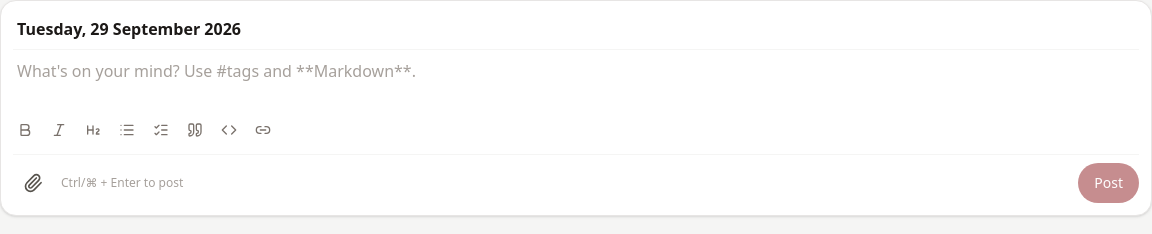
Composer › starts the title with today's date, which alone is not enough to post
The width and height of the screenshot is (1152, 234).
Expected: the button "Post" is disabled, [1078,163,1139,203]
Type " – standup" into the field named "Title" at (576, 32), box [13,13,1139,50]
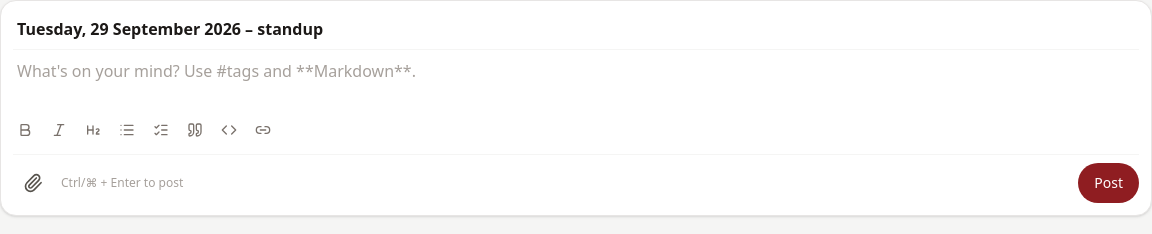
Click the button "Post" at (1109, 183), box [1078,163,1139,203]
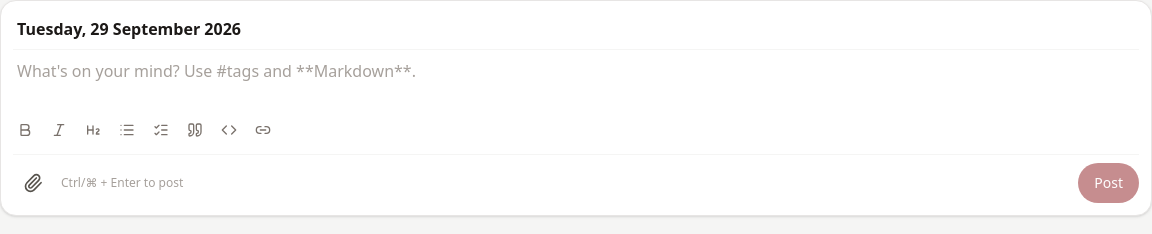
Now the field named "Title" holds "Tuesday, 29 September 2026", box [13,13,1139,50]
